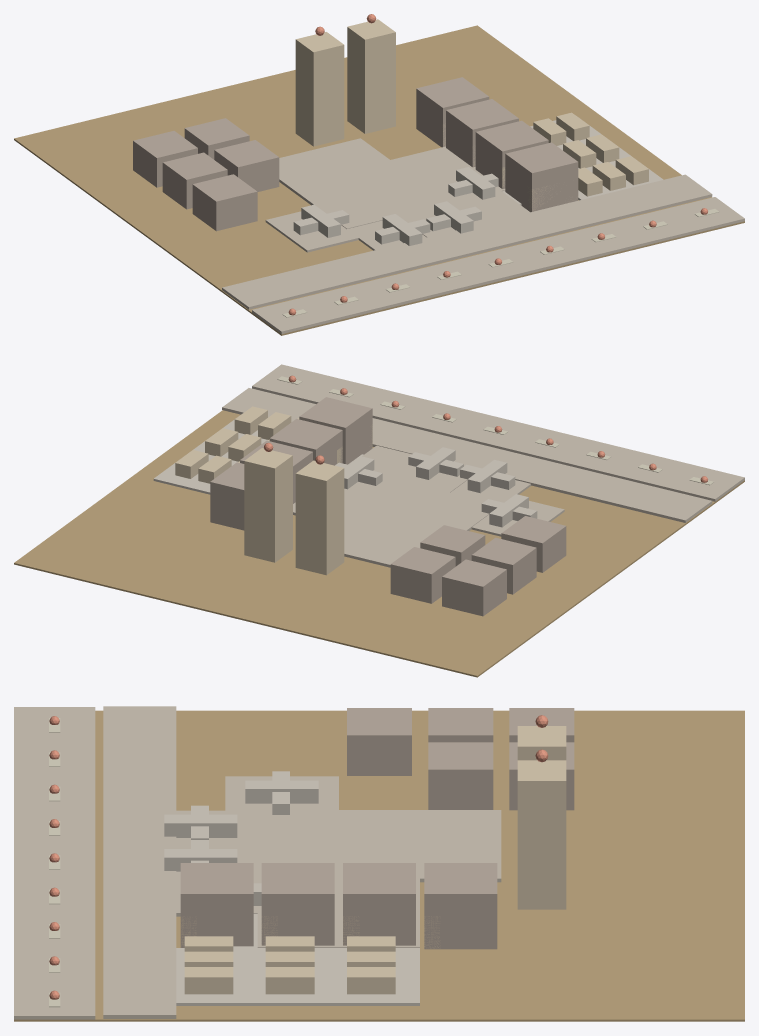
Rendered from stage_25.glb.
3 renders of one model, top to bottom at view 1: azimuth 30°, elevation 25°; view 2: azimuth 150°, elevation 25°; view 3: azimuth 270°, elevation 25°, orthographic. The views are drawn at different scales.
Visible parts, largest first — view 1: geometry_0; view 2: geometry_0; view 3: geometry_0.
Boxes of the visible parts, bbox=[...] form: geometry_0: bbox=[14, 14, 744, 335]; geometry_0: bbox=[14, 364, 744, 677]; geometry_0: bbox=[14, 706, 744, 1021].
Size of the model in its own units: 9 by 2.06 by 9.
